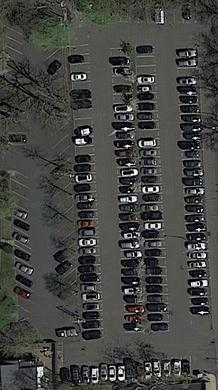parkingspot: (69, 44, 105, 342), (109, 47, 146, 334), (134, 46, 171, 332), (174, 48, 211, 327), (50, 120, 79, 308), (60, 355, 192, 386), (10, 170, 32, 251), (13, 244, 36, 314), (120, 3, 194, 24), (2, 24, 24, 64), (42, 46, 64, 79), (7, 132, 28, 146)
